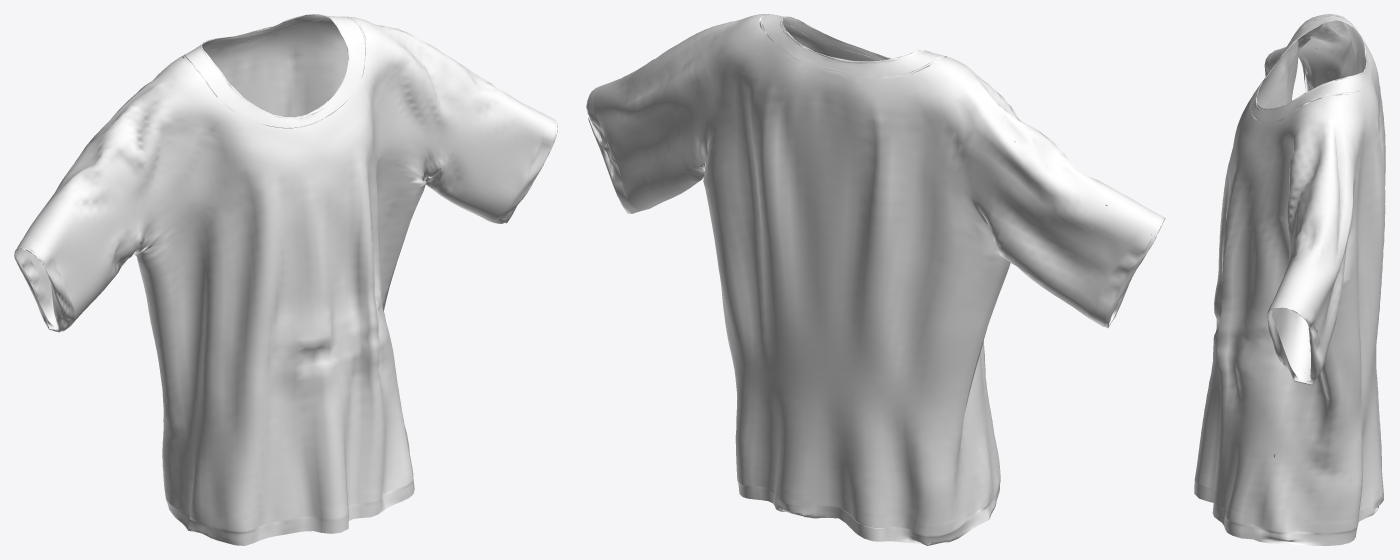
File: Petite_Tshirt_XL.glb
The picture shows the model from 3 angles, left to right: view 1: azimuth 30°, elevation 25°; view 2: azimuth 150°, elevation 25°; view 3: azimuth 270°, elevation 25°; orthographic projection. The views are drawn at different scales.
Parts seen in each view (by area): view 1: TShirt_for_Genesis.008; view 2: TShirt_for_Genesis.008; view 3: TShirt_for_Genesis.008.
Part boxes in pixels (left/top/right/bottom): TShirt_for_Genesis.008: left=14, top=14, right=557, bottom=545; TShirt_for_Genesis.008: left=586, top=14, right=1165, bottom=545; TShirt_for_Genesis.008: left=1194, top=14, right=1385, bottom=545.
Bounding box in the file's own units: 19.42 × 15.81 × 6.09.
Materials: 1 (1 with a texture image).
